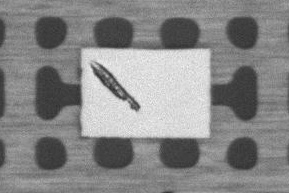DIE_INK: (127, 38, 217, 78)
